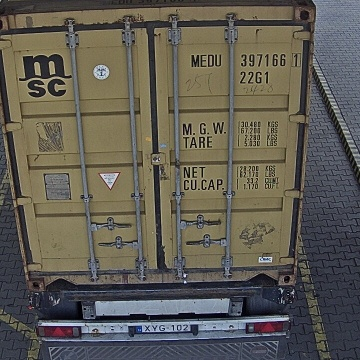serial_id: (191, 53, 301, 66)
